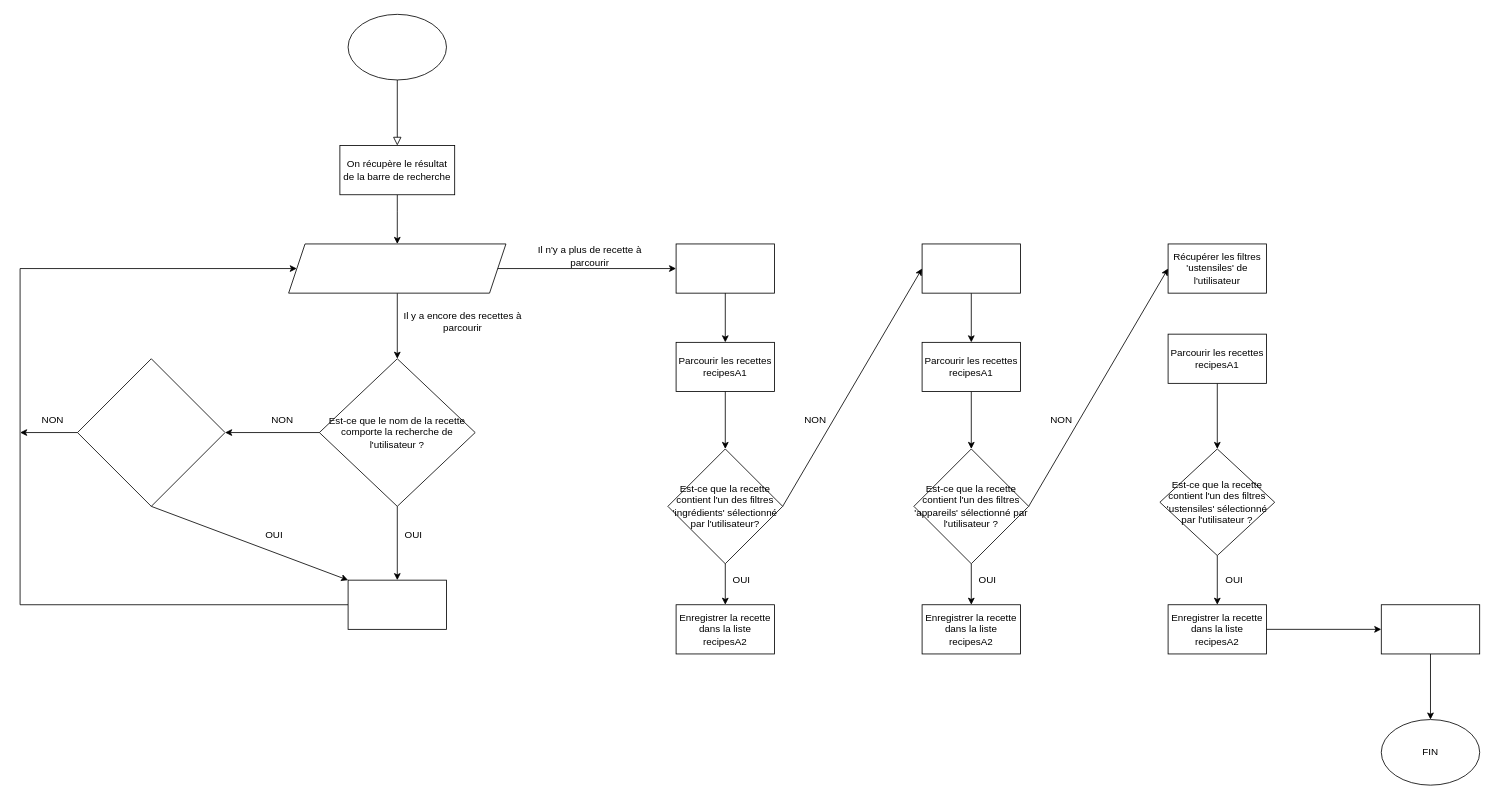
The diagram is 1494 pixels wide and 800 high, and some of its shapes have lost their labels. The centre of each missing label's shape, as x and y in pixels:
Afficher la liste recipesA2: [1430,629]
DEBUT: [396,47]
Enregistrer la recette dans une liste recipesA1: [396,604]
Est-ce que la description de la recette comporte la recherche de l'utilisateur ?: [151,432]
On parcours la liste de toutes les recettes: [397,268]
Récupérer les filtres 'appareils' de l'utilisateur: [970,268]
Récupérer les filtres 'ingrédients' de l'utilisateur: [724,268]
